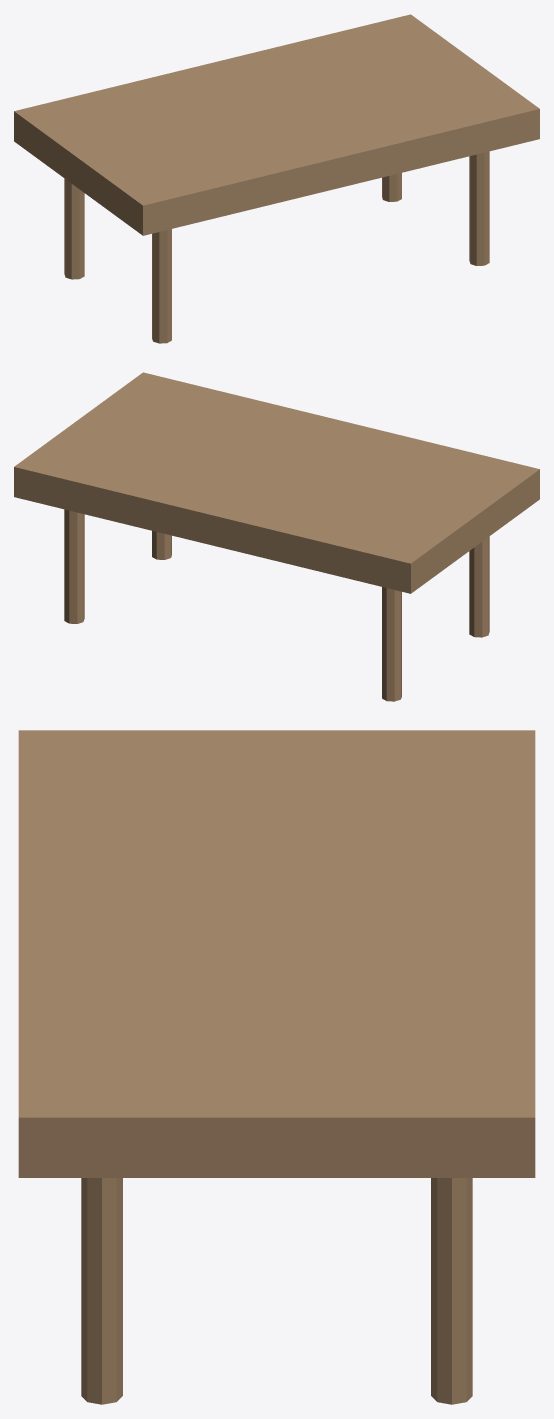
The picture shows the model from 3 angles, top to bottom: view 1: azimuth 30°, elevation 25°; view 2: azimuth 150°, elevation 25°; view 3: azimuth 270°, elevation 25°; orthographic projection. The views are drawn at different scales.
Visible parts, largest first — view 1: Top, Leg.4, Leg.2, Leg.1, Leg.3; view 2: Top, Leg.3, Leg.1, Leg.2, Leg.4; view 3: Top, Leg.3, Leg.4.
Part boxes in pixels (<box>): Top: <box>14,14,539,235</box>; Leg.4: <box>469,151,489,265</box>; Leg.2: <box>152,229,171,343</box>; Leg.1: <box>64,178,84,279</box>; Leg.3: <box>382,173,401,201</box>; Top: <box>14,372,539,593</box>; Leg.3: <box>64,509,84,623</box>; Leg.1: <box>382,587,401,701</box>; Leg.2: <box>469,536,489,637</box>; Leg.4: <box>152,531,171,559</box>; Top: <box>18,730,535,1177</box>; Leg.3: <box>431,1178,472,1404</box>; Leg.4: <box>81,1178,122,1404</box>.
Bounding box in the file's own units: 1.1 × 0.42 × 0.62.
